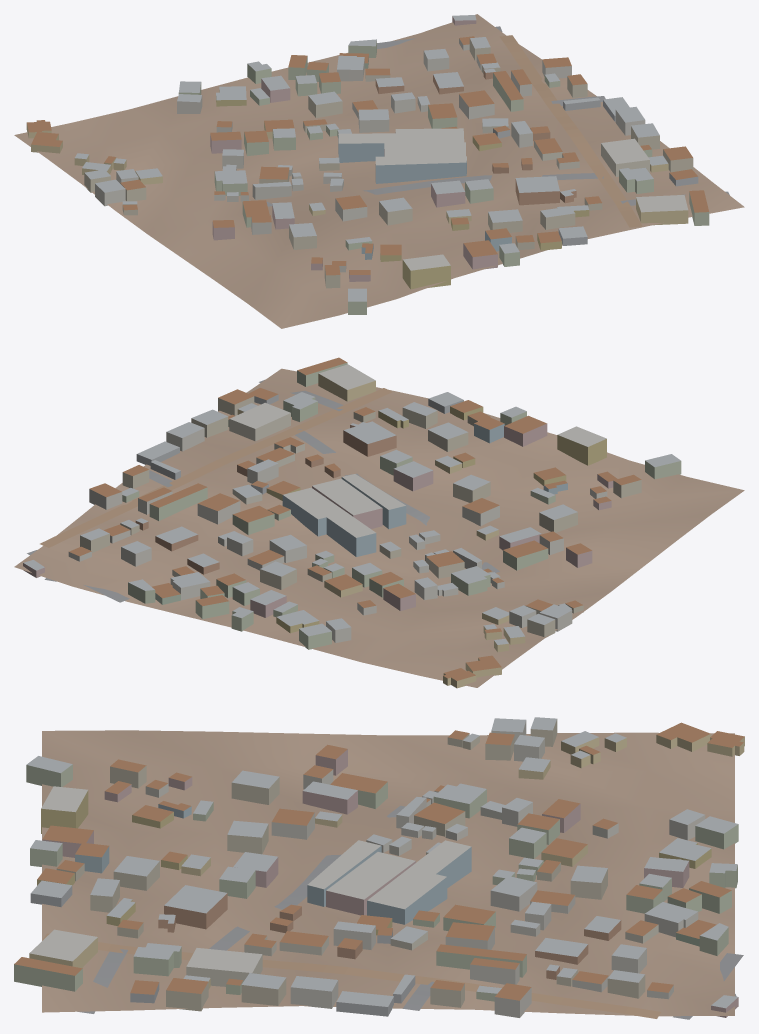
3 views of the same model, one above another, from view 1: azimuth 30°, elevation 25°; view 2: azimuth 150°, elevation 25°; view 3: azimuth 270°, elevation 25° (orthographic). The views are drawn at different scales.
Visible parts, largest first — view 1: Lo; view 2: Lo; view 3: Lo.
Boxes of the visible parts, x1=… form: Lo: x1=14, y1=14, x2=744, y2=328; Lo: x1=14, y1=357, x2=744, y2=688; Lo: x1=14, y1=717, x2=744, y2=1019.
Size of the model in its own units: 264 by 17.75 by 270.
